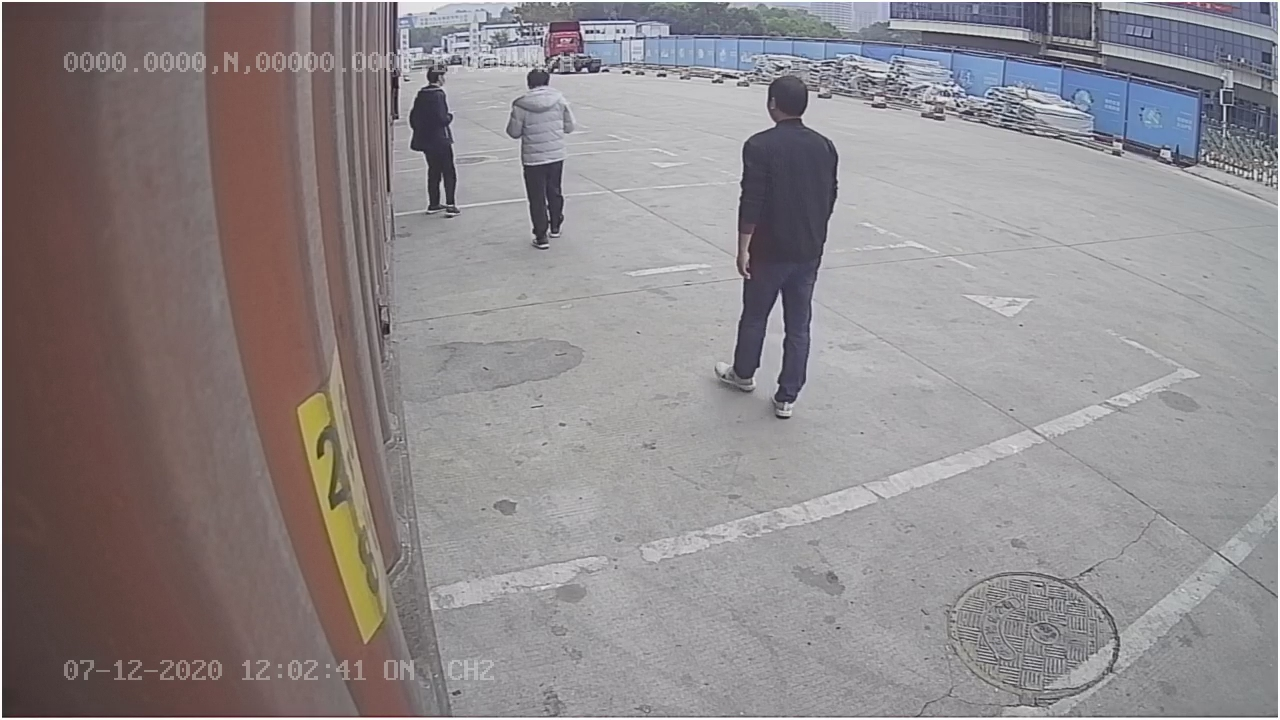person: (705, 74, 842, 417)
